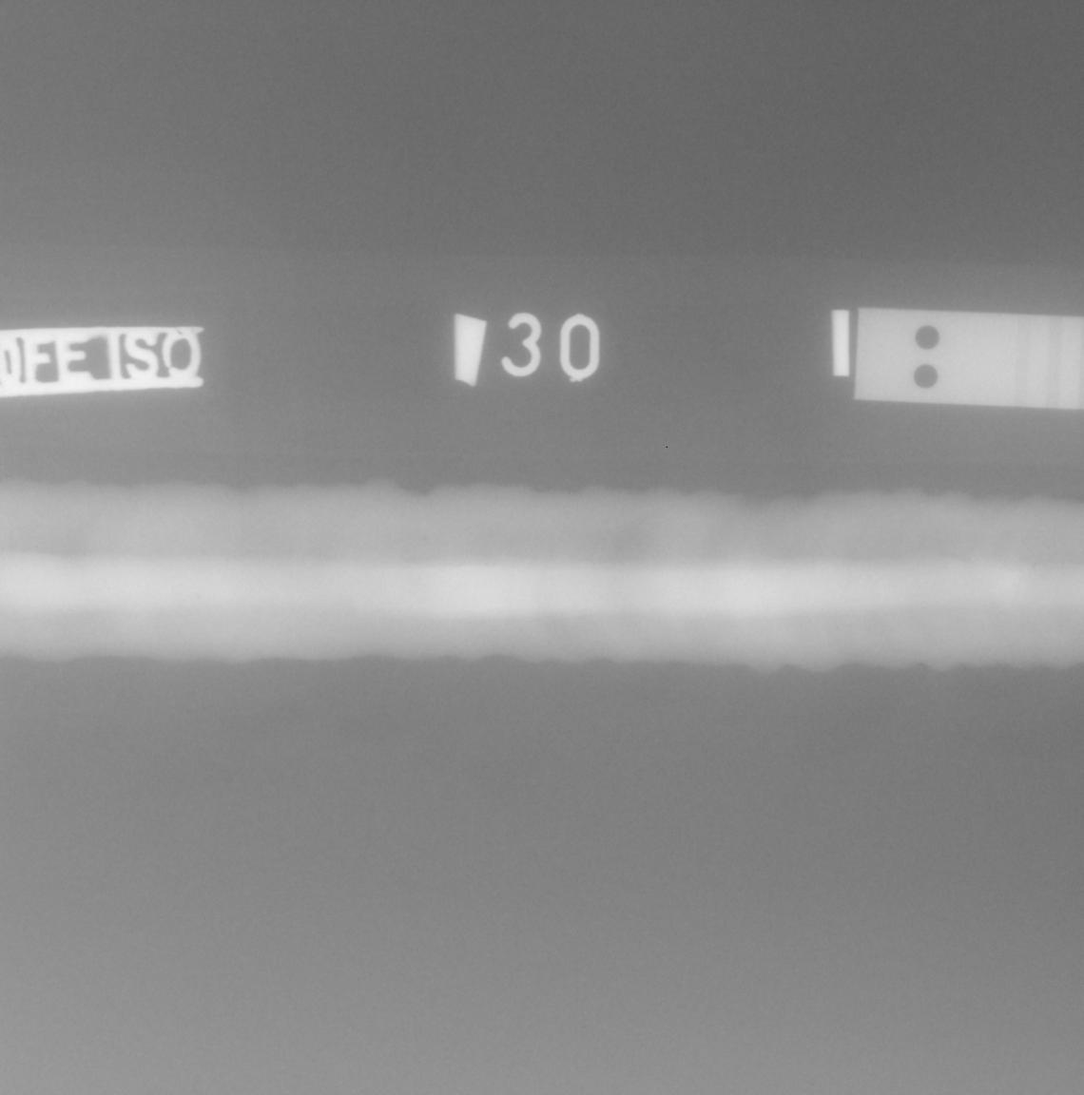Pore/Porosity: (196, 594, 201, 599), (824, 513, 829, 518), (828, 519, 833, 524), (423, 537, 426, 540)
